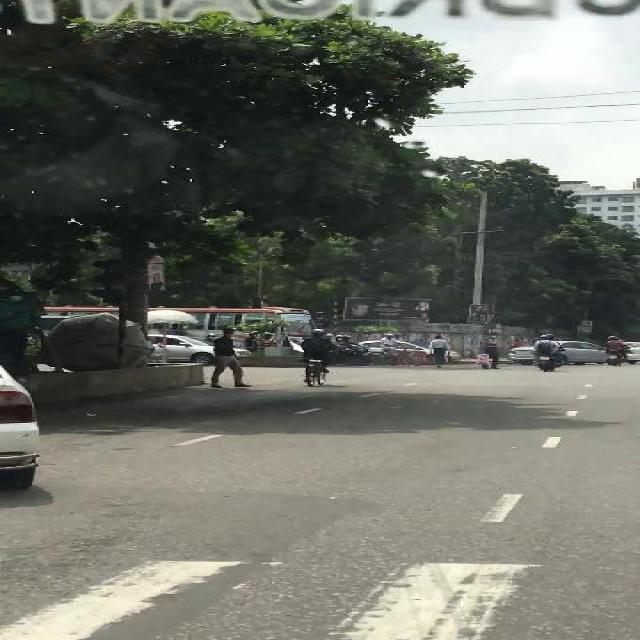bicycle: (298, 328, 328, 387), (365, 348, 424, 367)
motorbike: (532, 332, 564, 372), (601, 335, 629, 367)
